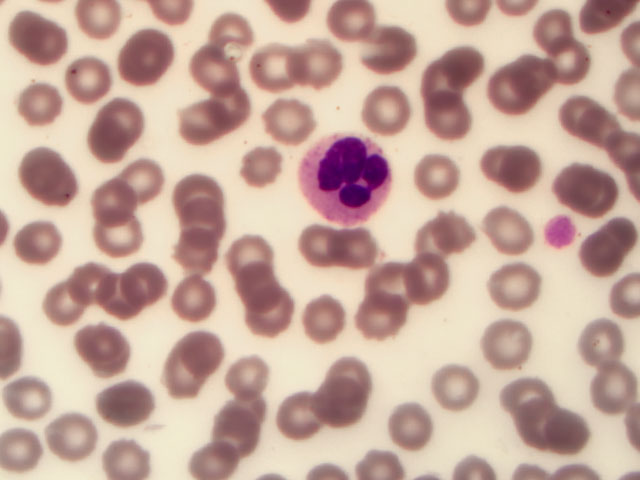Platelets: (540, 216, 579, 249)
RBC: (6, 7, 71, 69), (56, 49, 121, 111), (14, 70, 79, 132), (12, 145, 77, 207), (65, 117, 130, 179), (80, 92, 145, 154), (115, 32, 180, 94), (177, 37, 242, 99), (194, 87, 259, 149), (173, 91, 238, 153), (228, 141, 293, 203), (253, 93, 318, 155), (235, 42, 300, 104), (289, 35, 354, 97), (317, 6, 382, 68), (357, 23, 422, 85), (425, 102, 490, 164), (352, 78, 417, 140), (425, 34, 490, 96), (483, 66, 548, 128), (509, 47, 574, 109), (533, 14, 598, 76), (558, 86, 623, 148), (477, 136, 542, 198), (410, 148, 475, 210), (470, 208, 535, 270), (426, 207, 491, 269), (405, 244, 470, 306), (364, 253, 429, 315), (353, 284, 418, 346), (292, 295, 357, 357), (326, 219, 391, 281), (300, 219, 365, 281), (217, 217, 282, 279), (172, 195, 237, 257), (168, 167, 233, 229), (164, 227, 229, 289), (86, 167, 151, 229), (84, 204, 149, 266), (110, 146, 175, 208), (6, 212, 71, 274), (25, 270, 90, 332), (46, 251, 111, 313), (89, 273, 154, 335), (134, 261, 199, 323), (163, 273, 228, 335), (173, 325, 238, 387), (155, 353, 220, 415), (95, 383, 160, 445), (86, 322, 151, 384), (43, 408, 108, 470), (21, 412, 86, 474), (8, 367, 73, 429), (95, 418, 160, 480), (179, 418, 244, 480), (214, 398, 279, 460), (229, 353, 294, 415), (267, 402, 332, 464), (316, 373, 381, 435), (331, 343, 396, 405), (383, 395, 448, 457), (424, 361, 489, 423), (474, 319, 539, 381), (491, 256, 556, 318), (483, 355, 548, 417), (499, 391, 564, 453), (522, 400, 587, 462), (575, 351, 640, 413), (575, 309, 640, 371), (575, 221, 640, 283), (558, 159, 623, 221), (322, 1, 387, 62)
WBC: (298, 132, 395, 227)
